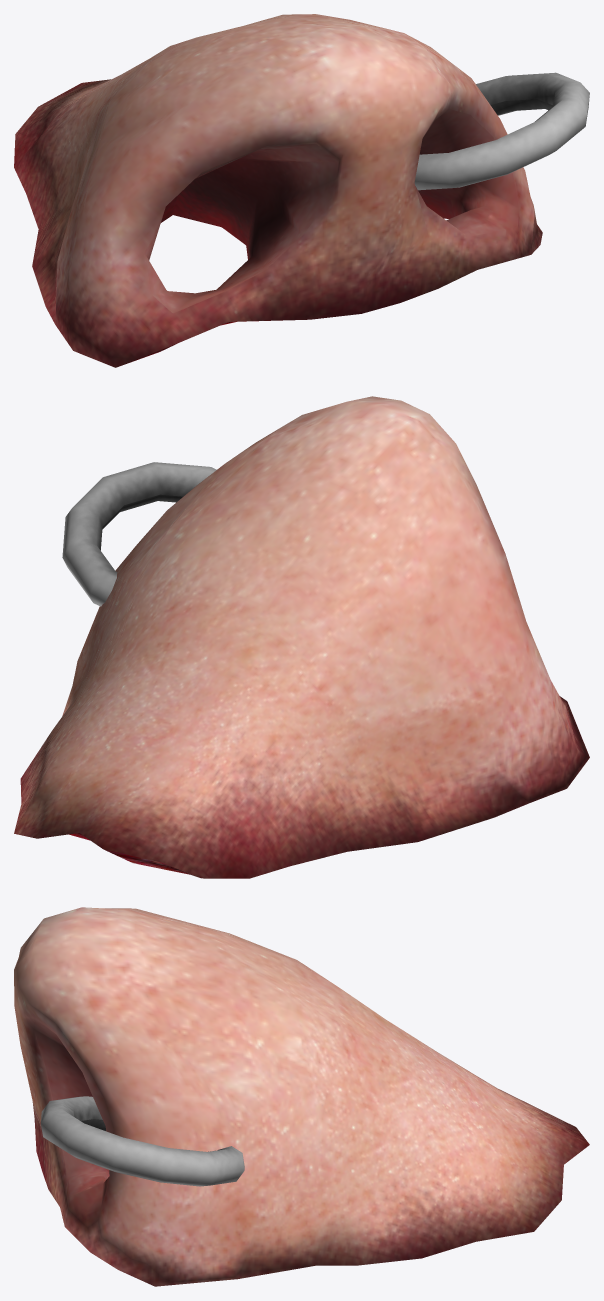
The model's file is Nose_3.fbx.
3 views of the same model, one above another, from view 1: azimuth 30°, elevation 25°; view 2: azimuth 150°, elevation 25°; view 3: azimuth 270°, elevation 25° (orthographic). The views are drawn at different scales.
Visible parts, largest first — view 1: nose_3, Ring_nose_3; view 2: nose_3, Ring_nose_3; view 3: nose_3, Ring_nose_3.
Part boxes in pixels (x1,y1,x2,y2): nose_3: (14, 14, 542, 367); Ring_nose_3: (414, 72, 589, 190); nose_3: (14, 396, 589, 878); Ring_nose_3: (62, 462, 216, 606); nose_3: (14, 907, 589, 1286); Ring_nose_3: (41, 1096, 244, 1186).
Bounding box in the file's own units: 0.0446 × 0.0253 × 0.0479.
